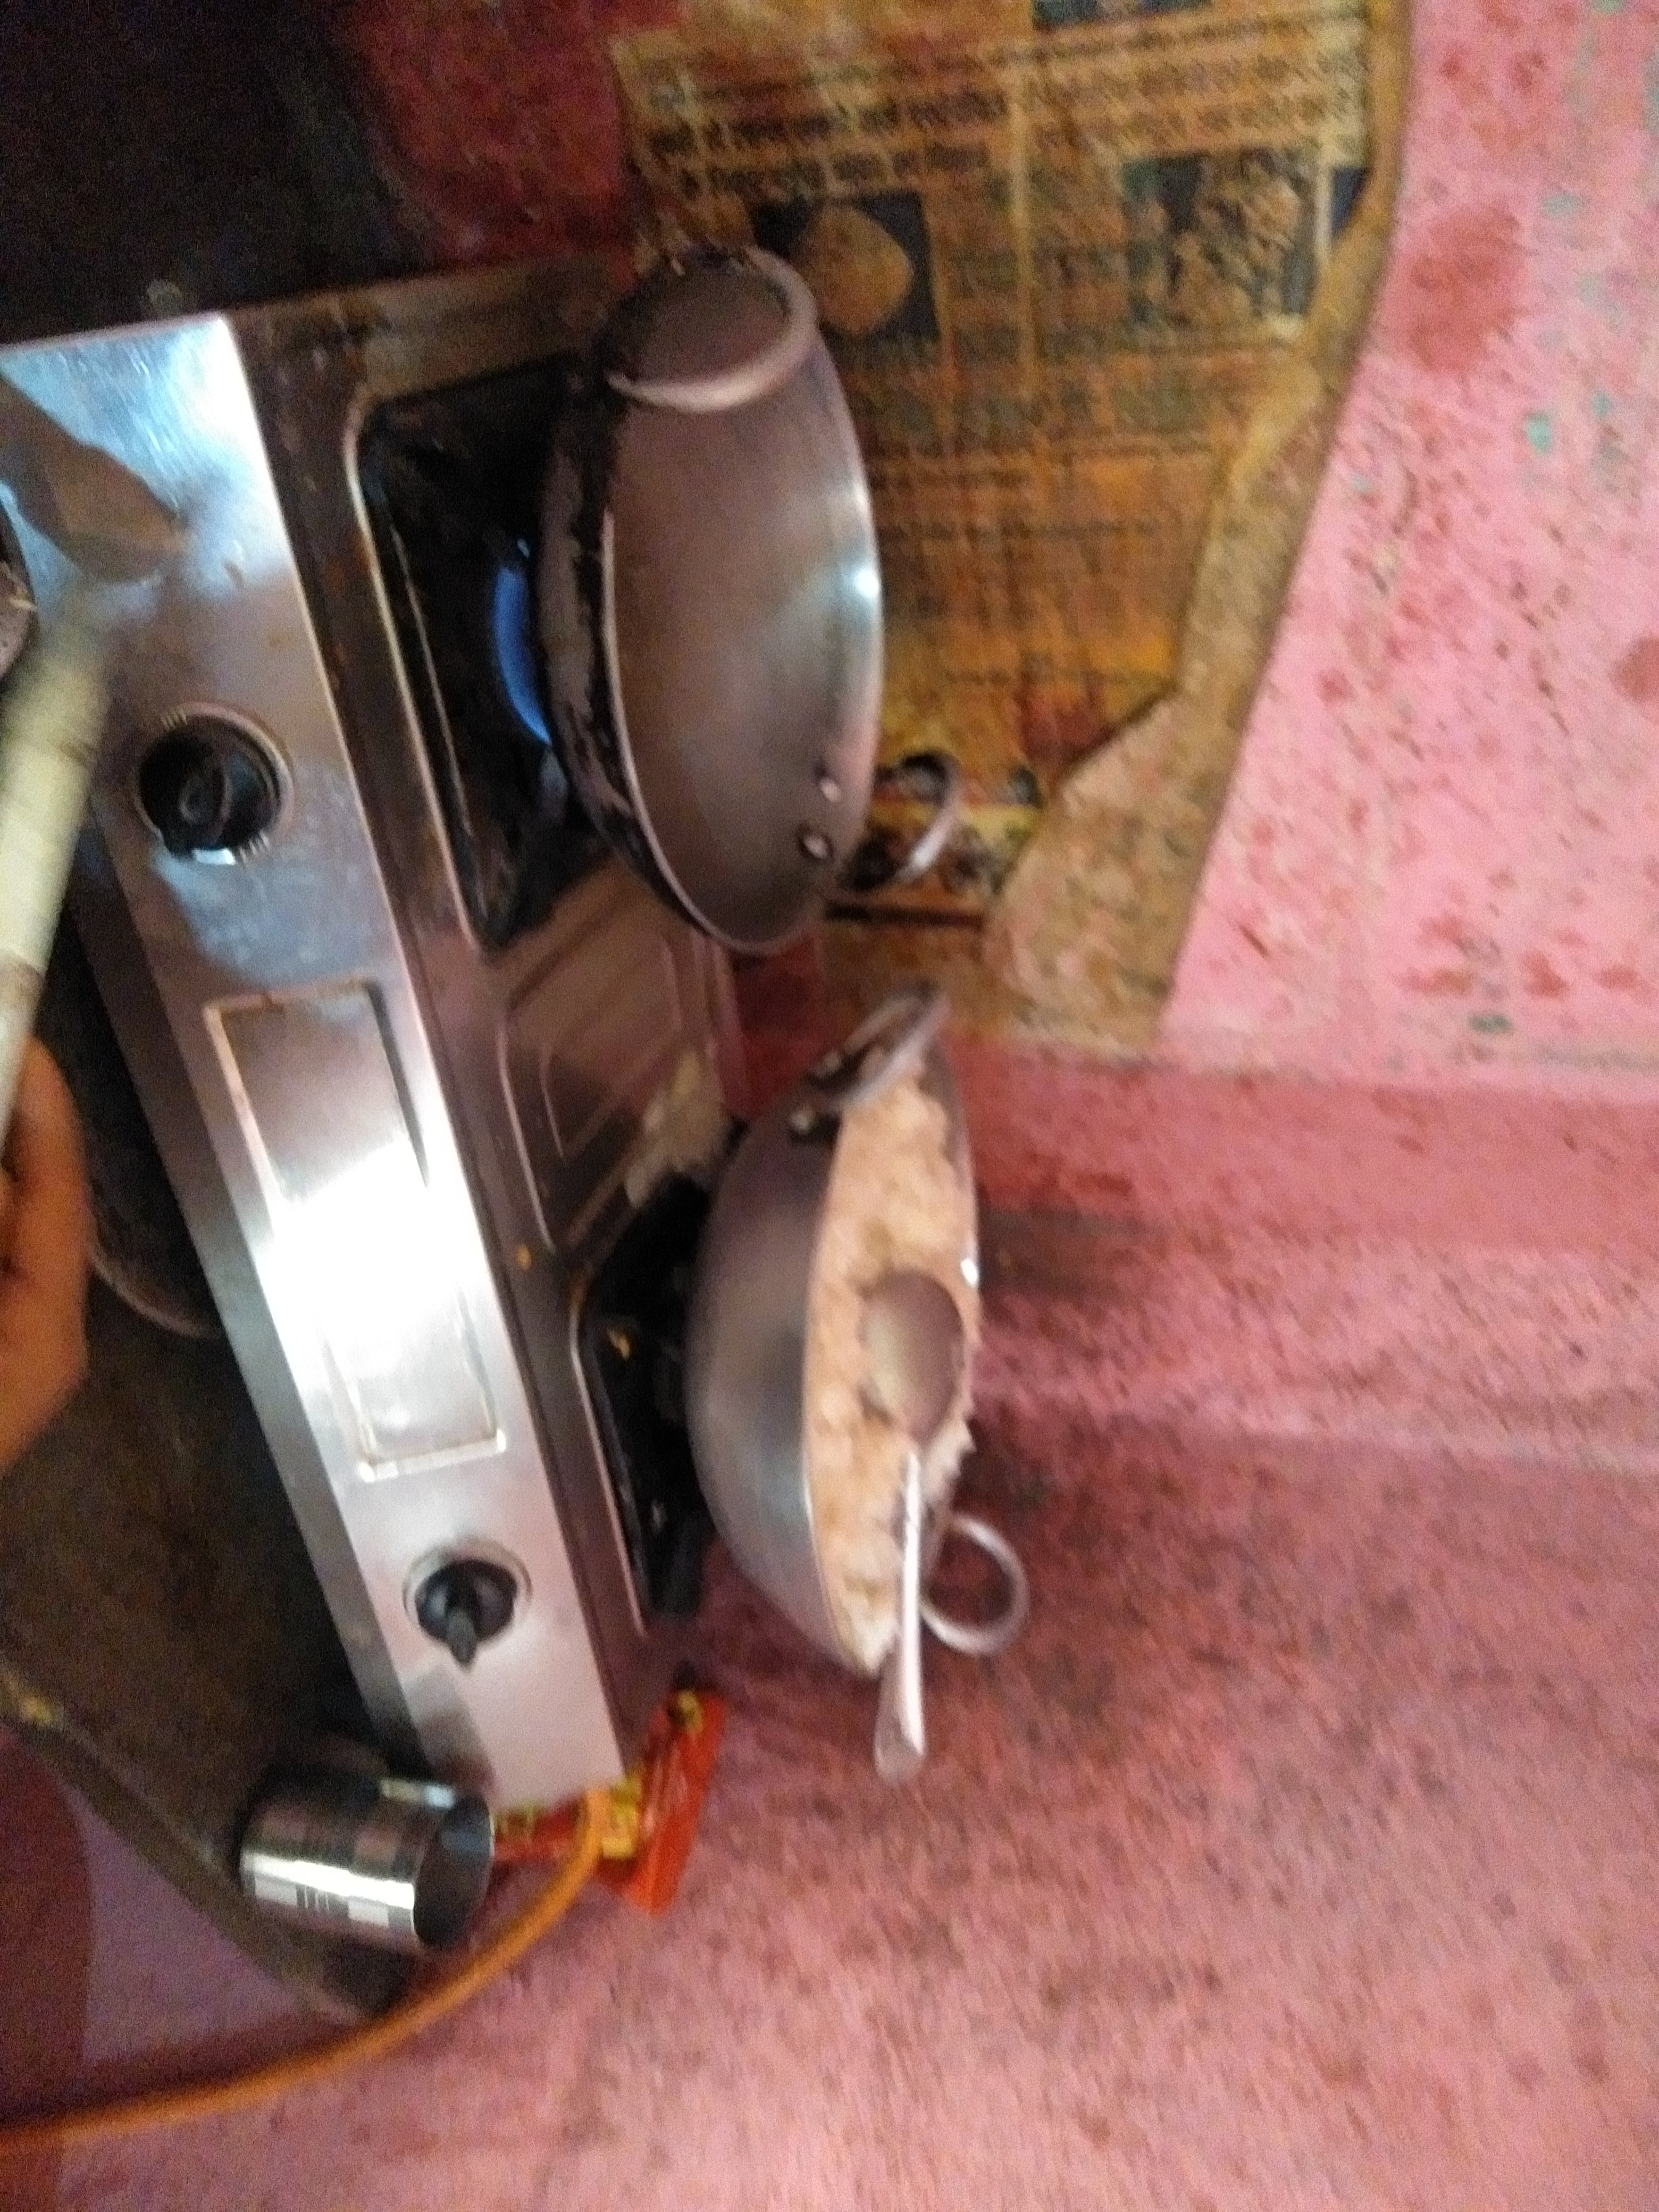food: (809, 1031, 993, 1677)
